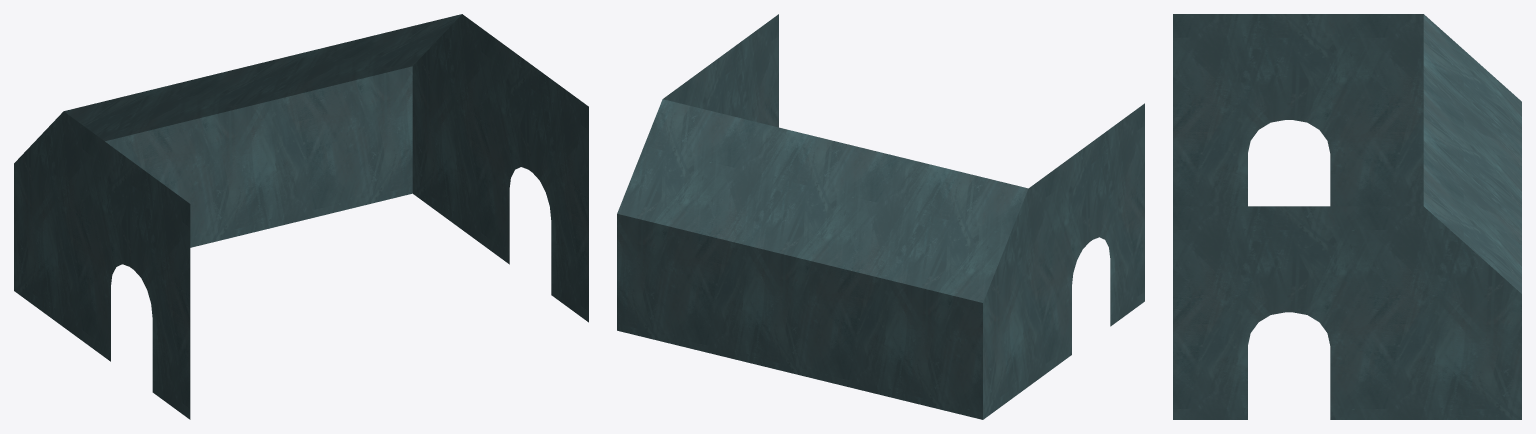
Rendered from CofeeShop_Walls_Intern.glb.
3 renders of one model, left to right at view 1: azimuth 30°, elevation 25°; view 2: azimuth 150°, elevation 25°; view 3: azimuth 270°, elevation 25°, orthographic. The views are drawn at different scales.
Parts seen in each view (by area): view 1: TeaShop_Walls_Intern; view 2: TeaShop_Walls_Intern; view 3: TeaShop_Walls_Intern.
Boxes of the visible parts, bbox=[...] form: TeaShop_Walls_Intern: bbox=[14, 14, 588, 419]; TeaShop_Walls_Intern: bbox=[617, 14, 1144, 419]; TeaShop_Walls_Intern: bbox=[1173, 14, 1521, 419].
Size of the model in its own units: 3.97 by 2.06 by 3.04.
Materials: 1 (1 with a texture image).
